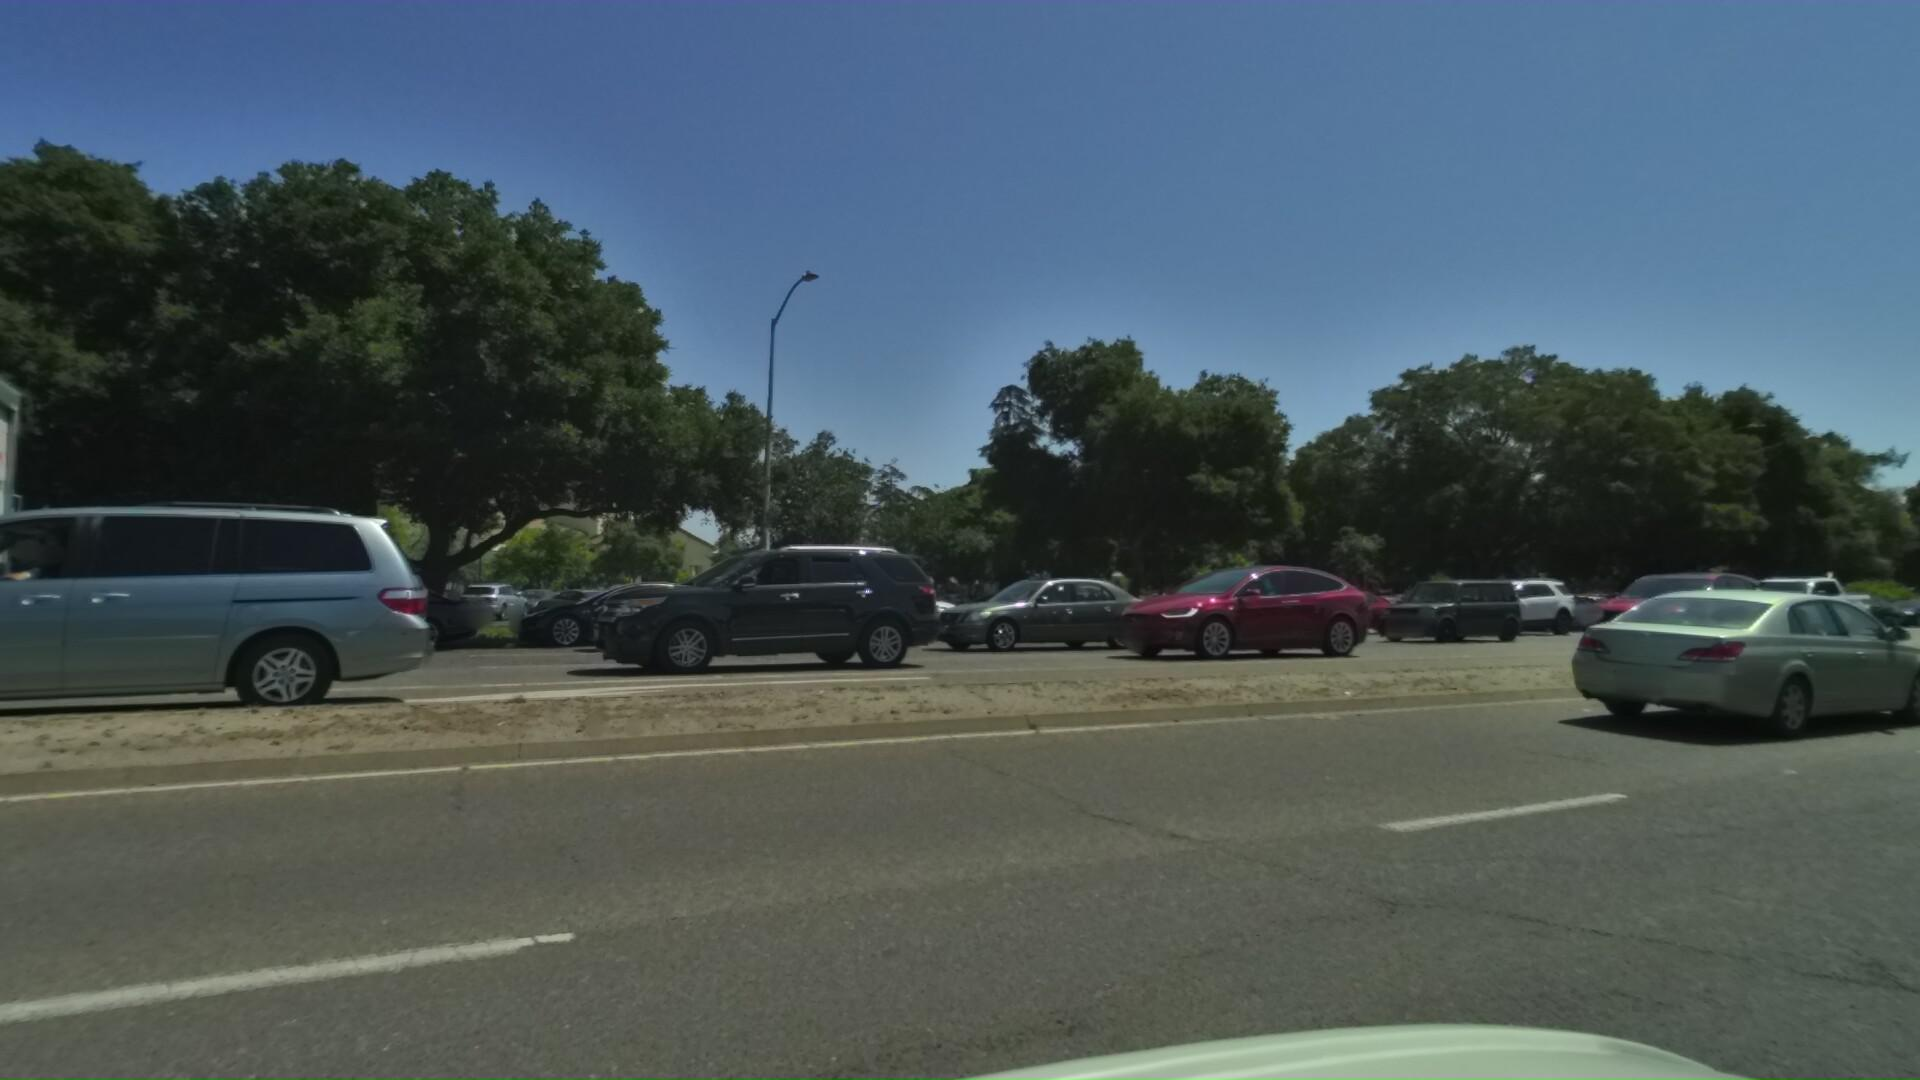car: (0, 464, 365, 769), (530, 529, 928, 680), (1565, 579, 1920, 742), (0, 549, 357, 673), (13, 554, 375, 670), (1072, 555, 1364, 657), (1522, 556, 1768, 659), (477, 571, 727, 650), (893, 572, 1134, 650), (727, 564, 927, 644), (1346, 570, 1509, 640), (1695, 566, 1859, 632), (1176, 574, 1358, 633), (1425, 567, 1575, 629), (1697, 562, 1836, 626), (1255, 582, 1393, 633), (1799, 588, 1894, 625), (1850, 588, 1920, 624), (1917, 578, 1920, 625)
